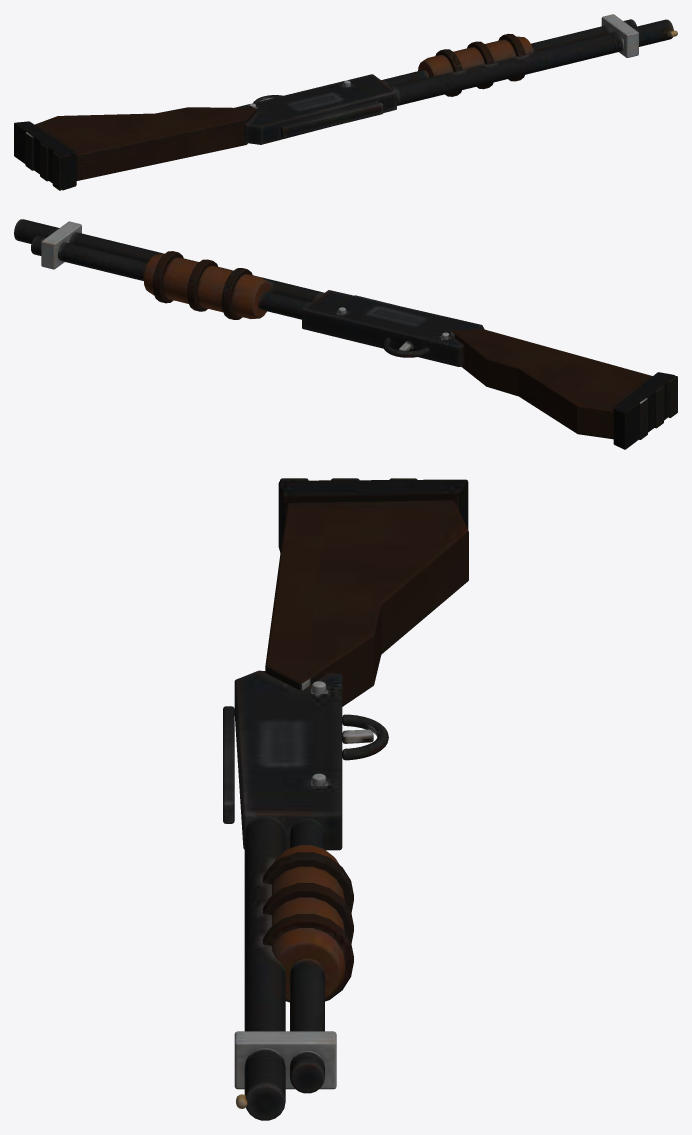
File: shotgun.glb
3 views of the same model, one above another, from view 1: azimuth 30°, elevation 25°; view 2: azimuth 150°, elevation 25°; view 3: azimuth 270°, elevation 25° (orthographic). The views are drawn at different scales.
Parts seen in each view (by area): view 1: shotgun; view 2: shotgun; view 3: shotgun.
Boxes of the visible parts, x1,y1,x2,y2 form: shotgun: [14, 14, 677, 190]; shotgun: [14, 219, 677, 449]; shotgun: [223, 478, 468, 1120].
Size of the model in its own units: 0.966 by 0.065 by 0.169.
1 material, 1 textured.
